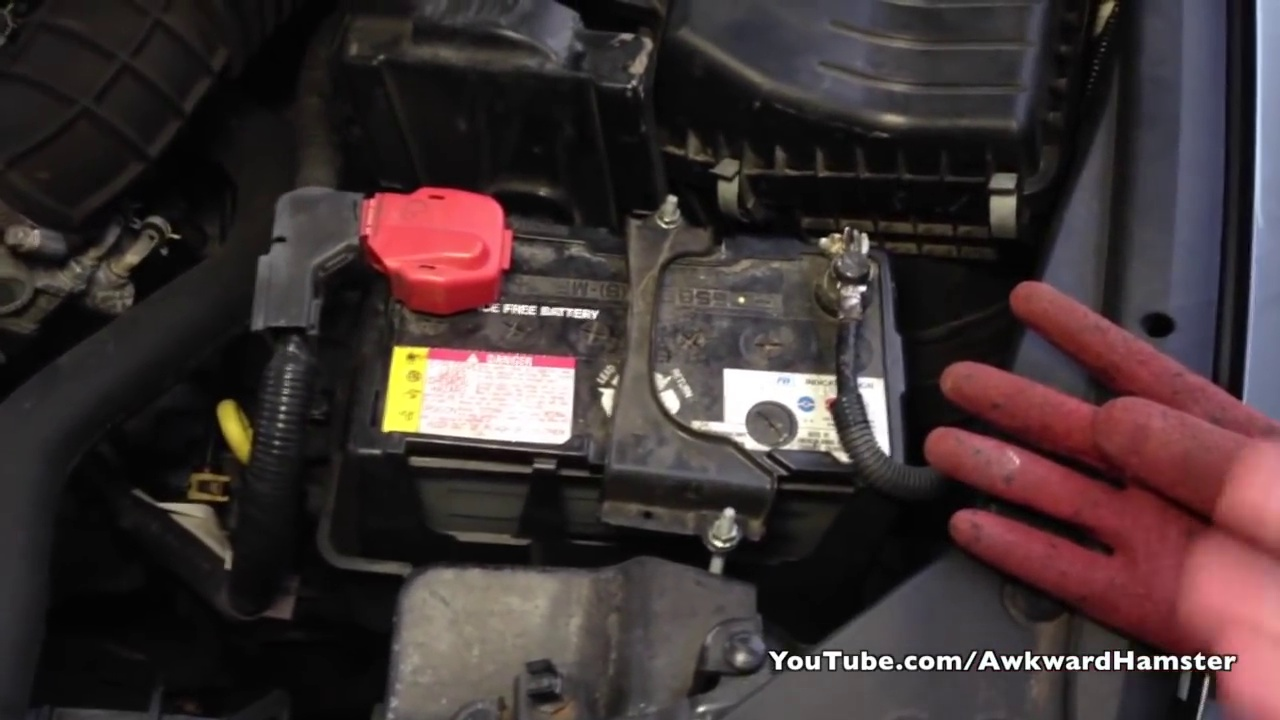battery: (307, 196, 898, 497)
neg_connected: (792, 205, 892, 374)
pos_connected: (293, 157, 521, 316)
